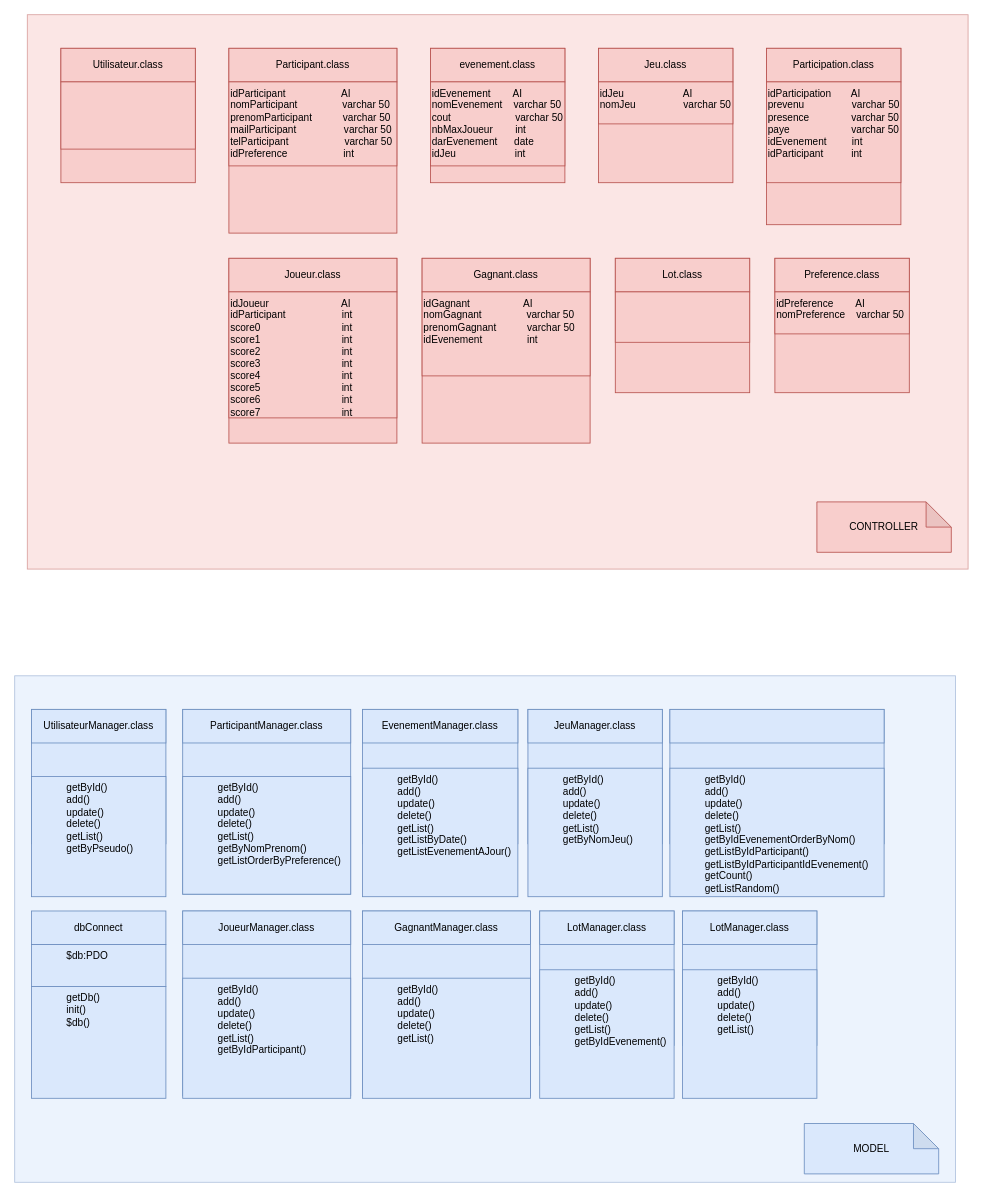
The diagram is 983 pixels wide and 1197 high, and some of its shapes have lost their labels. Here are the shapes that lost their labels. From the top down, the centre of each, then its label:
At point 127,115: "idUtilisateur AI pseudo varchar 50 mdp varchar 50 role int".
At point 682,316: "idLot AI nomLot varchar 50 idEvenement int".
At point 776,726: "ParticipationManager.class".
